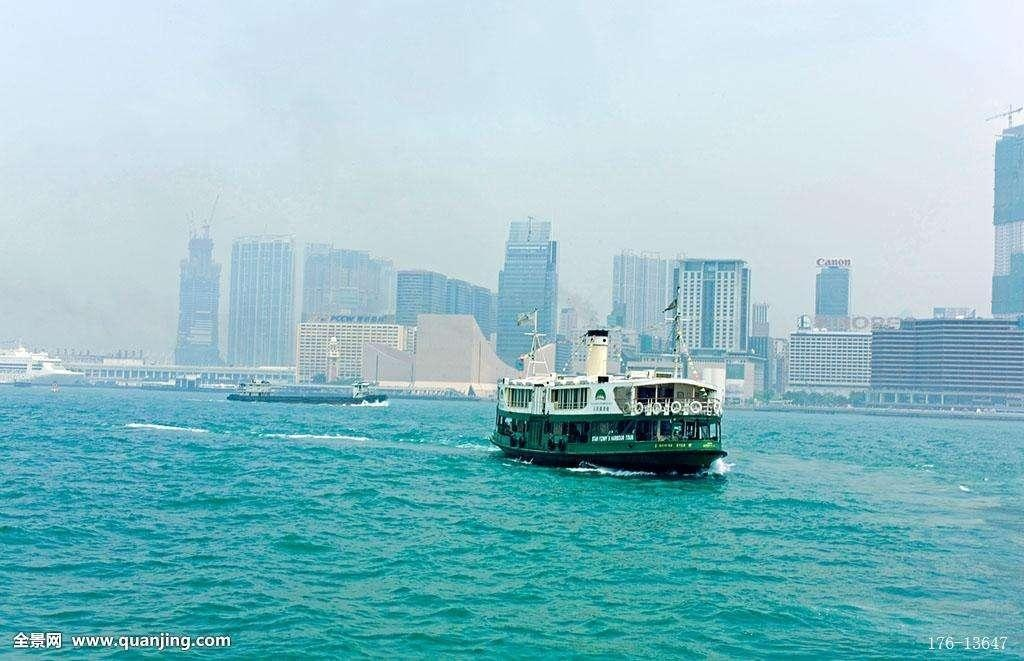youlun: (489, 296, 722, 471)
